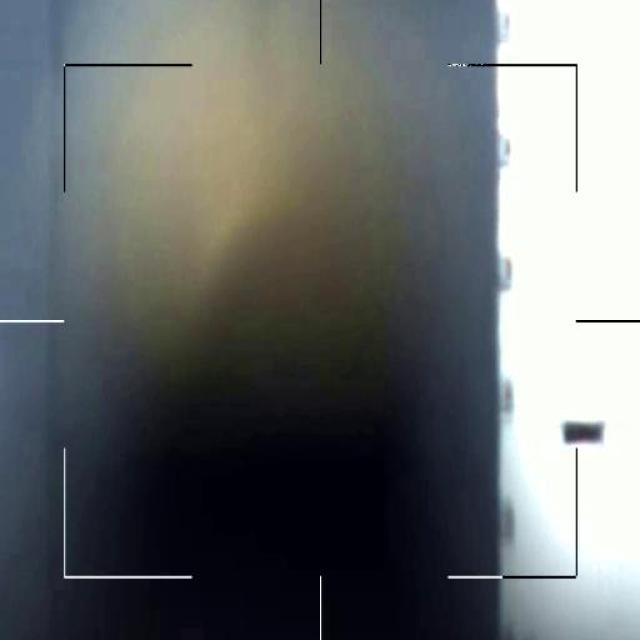bird: (560, 412, 606, 446)
